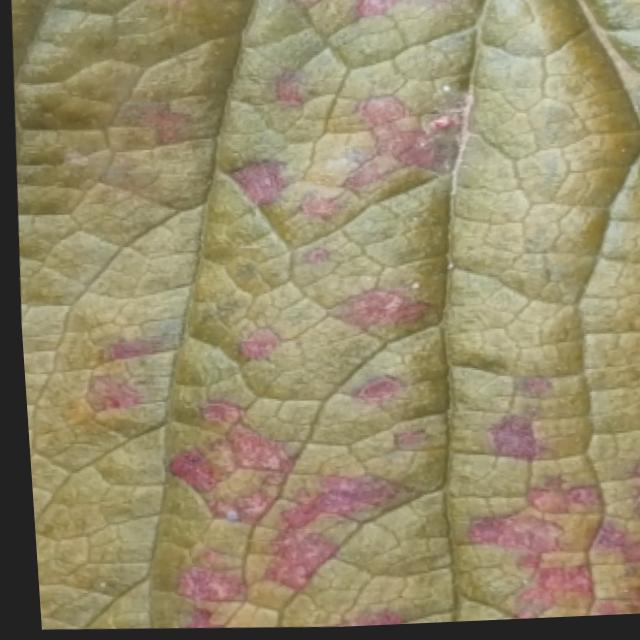Angular Leafspot: (12, 0, 640, 629)
